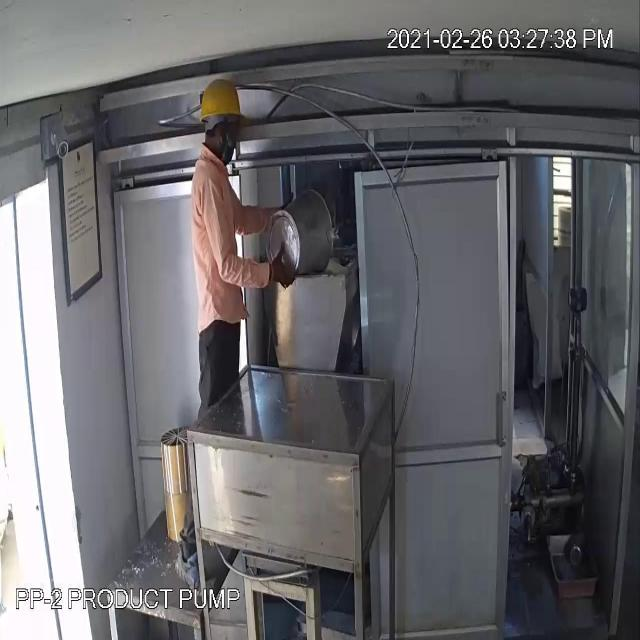helmet: (195, 73, 249, 133)
